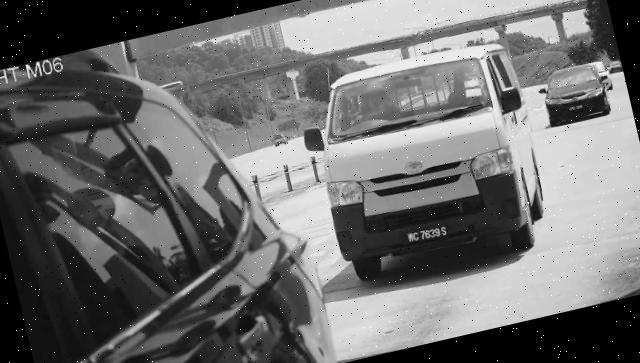License_Plate: (403, 220, 453, 250)
van: (303, 36, 559, 291)
